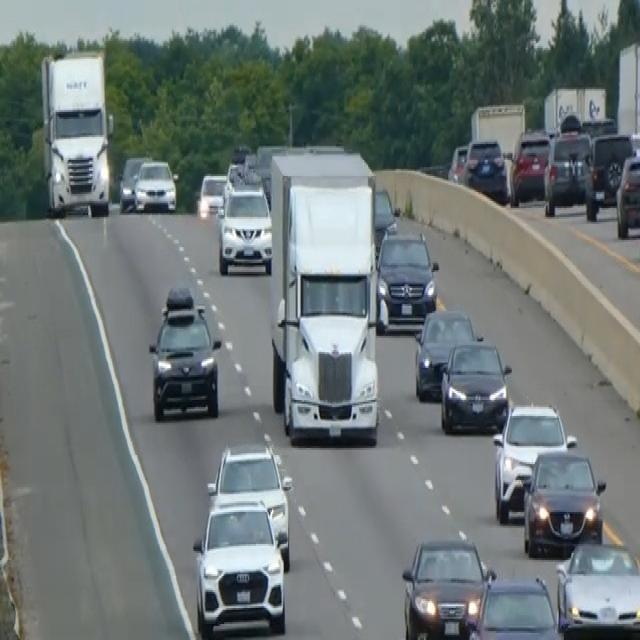car: (192, 494, 286, 638), (206, 441, 292, 569), (492, 400, 576, 523), (147, 284, 221, 422), (401, 535, 494, 638), (521, 446, 606, 556), (555, 537, 639, 638), (439, 336, 511, 434), (375, 228, 439, 330), (465, 572, 563, 638), (413, 306, 478, 400), (216, 180, 272, 276), (583, 130, 635, 218), (543, 128, 591, 215), (508, 128, 551, 204), (462, 137, 508, 203), (134, 156, 177, 212), (615, 151, 639, 238), (118, 153, 150, 211), (372, 185, 397, 249), (197, 170, 227, 218), (447, 142, 468, 183)
lorry: (268, 148, 382, 446), (38, 50, 114, 218)
